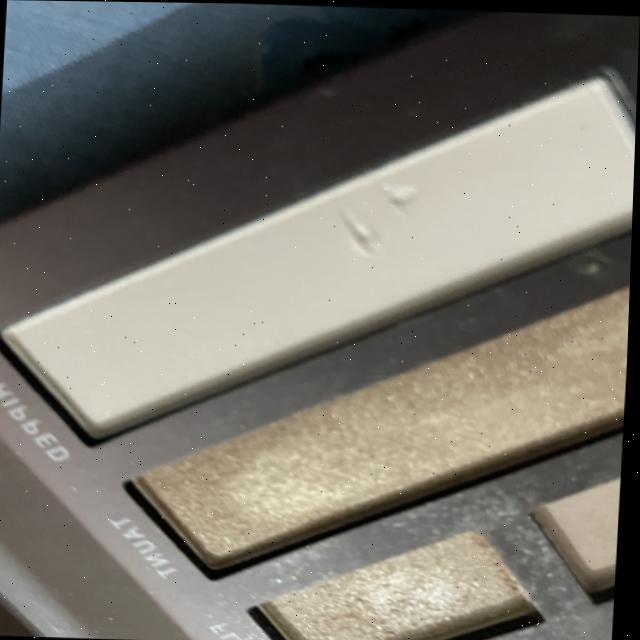eye shade: (0, 17, 640, 609), (0, 40, 639, 478), (230, 511, 553, 640)
